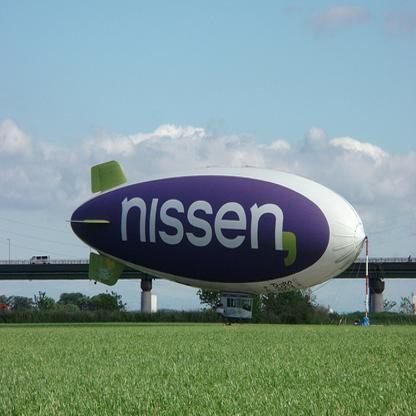Airship: (64, 155, 369, 305)
